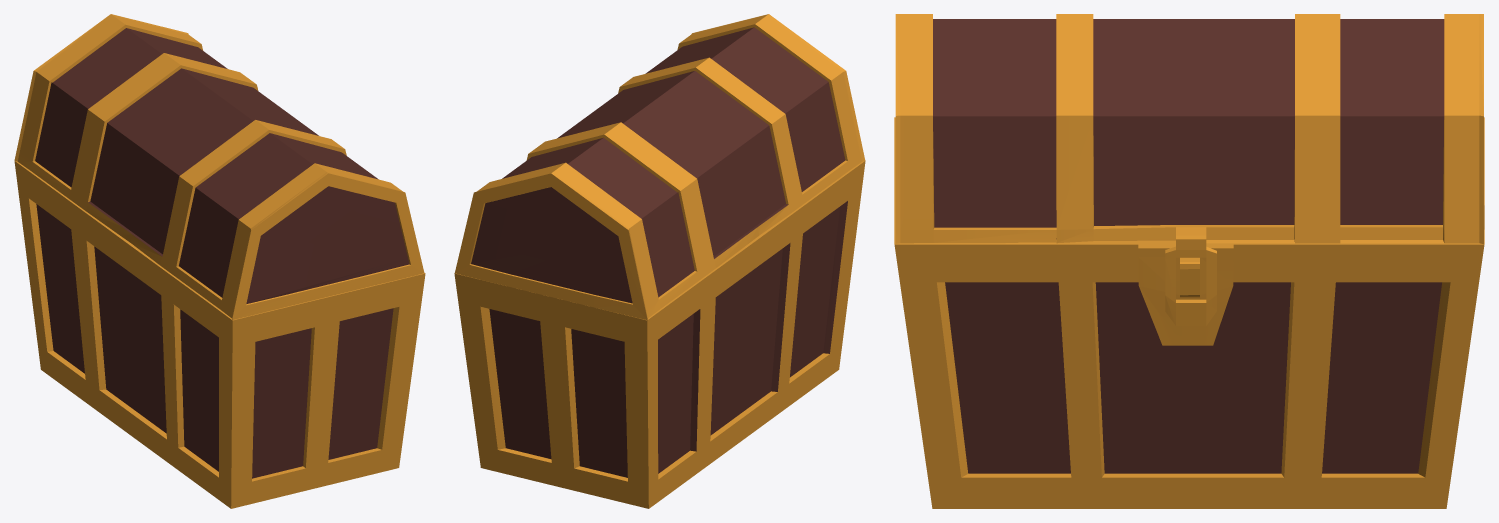
Rendered from Chest.glb.
3 views of the same model, side by side, from view 1: azimuth 30°, elevation 25°; view 2: azimuth 150°, elevation 25°; view 3: azimuth 270°, elevation 25° (orthographic). The views are drawn at different scales.
Visible parts, largest first — view 1: ChestLidOne; view 2: ChestLidOne; view 3: ChestLidOne.
Part boxes in pixels (x1,y1,x2,y2): ChestLidOne: (14,14,425,508); ChestLidOne: (454,14,865,508); ChestLidOne: (894,14,1484,508).
Bounding box in the file's own units: 2.18 × 3.22 × 3.92.
